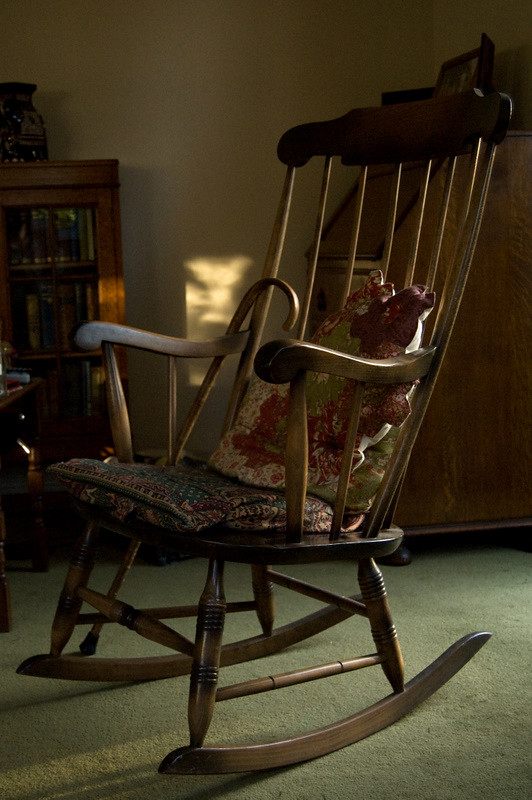chair: (68, 12, 516, 800)
